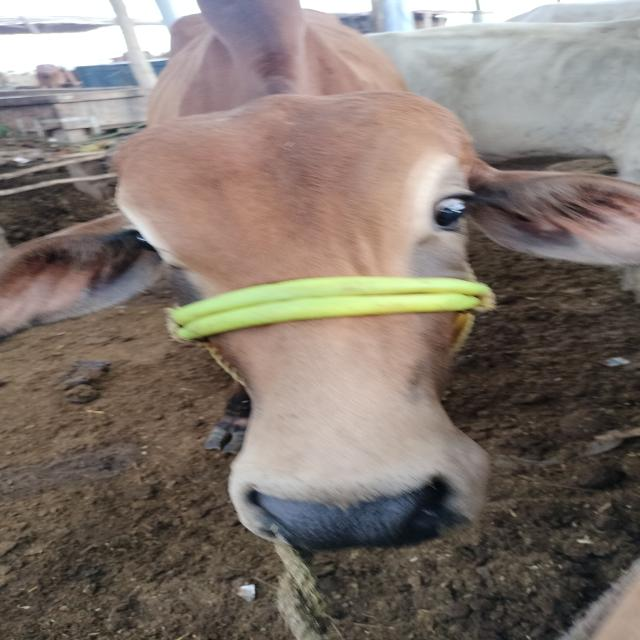muzzles: (227, 470, 471, 550)
